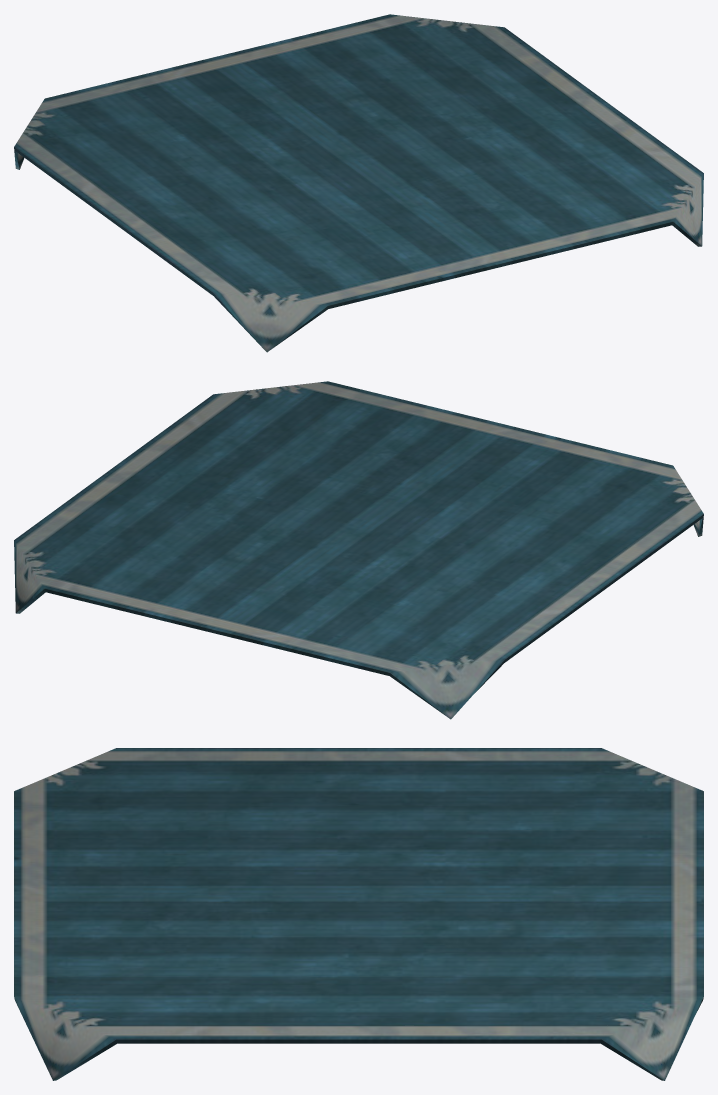
The model's file is table-cloth02.glb.
The picture shows the model from 3 angles, top to bottom: view 1: azimuth 30°, elevation 25°; view 2: azimuth 150°, elevation 25°; view 3: azimuth 270°, elevation 25°; orthographic projection. The views are drawn at different scales.
Parts seen in each view (by area): view 1: table-cloth02; view 2: table-cloth02; view 3: table-cloth02.
Boxes of the visible parts, left/top/right/bottom form: table-cloth02: left=14, top=14, right=703, bottom=352; table-cloth02: left=14, top=381, right=703, bottom=719; table-cloth02: left=14, top=748, right=703, bottom=1080.
Size of the model in its own units: 1.34 by 0.1256 by 1.34.
Materials: 1 (1 with a texture image).
